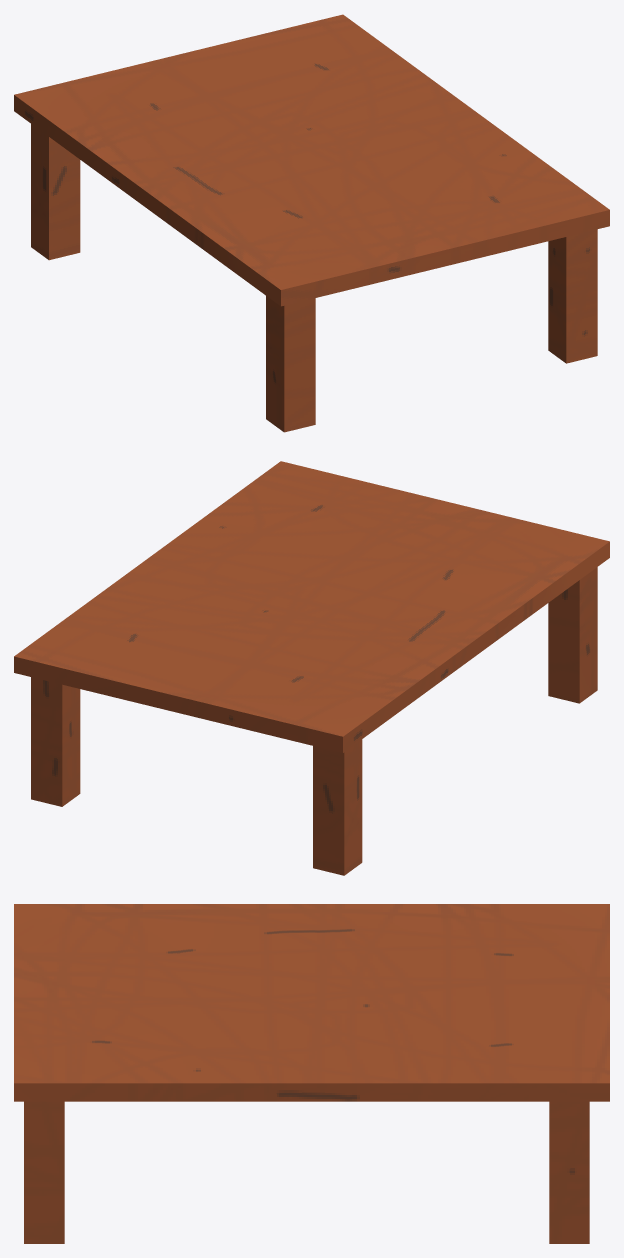
Rendered from table.glb.
3 views of the same model, one above another, from view 1: azimuth 30°, elevation 25°; view 2: azimuth 150°, elevation 25°; view 3: azimuth 270°, elevation 25° (orthographic). The views are drawn at different scales.
Visible parts, largest first — view 1: table, pole_right_buttom, pole_left_buttom, pole_right_top; view 2: table, pole_right_top, pole_left_top, pole_right_buttom; view 3: table, pole_left_buttom, pole_left_top.
Boxes of the visible parts, <box> form: table: <box>14,14,609,306</box>; pole_right_buttom: <box>266,296,315,432</box>; pole_left_buttom: <box>548,229,597,363</box>; pole_right_top: <box>31,124,80,260</box>; table: <box>14,461,609,752</box>; pole_right_top: <box>313,739,362,875</box>; pole_left_top: <box>31,677,80,806</box>; pole_right_buttom: <box>548,567,597,703</box>; table: <box>14,904,609,1101</box>; pole_left_buttom: <box>24,1101,64,1243</box>; pole_left_top: <box>549,1101,589,1243</box>.
Size of the model in its own units: 2.62 by 1.12 by 3.69.
1 material, 1 textured.
